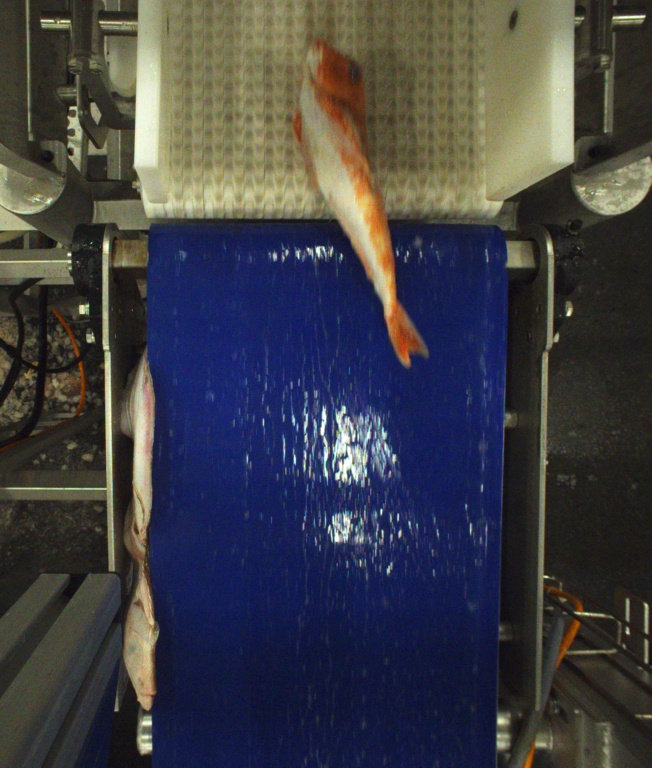GUU: (295, 39, 427, 368)
